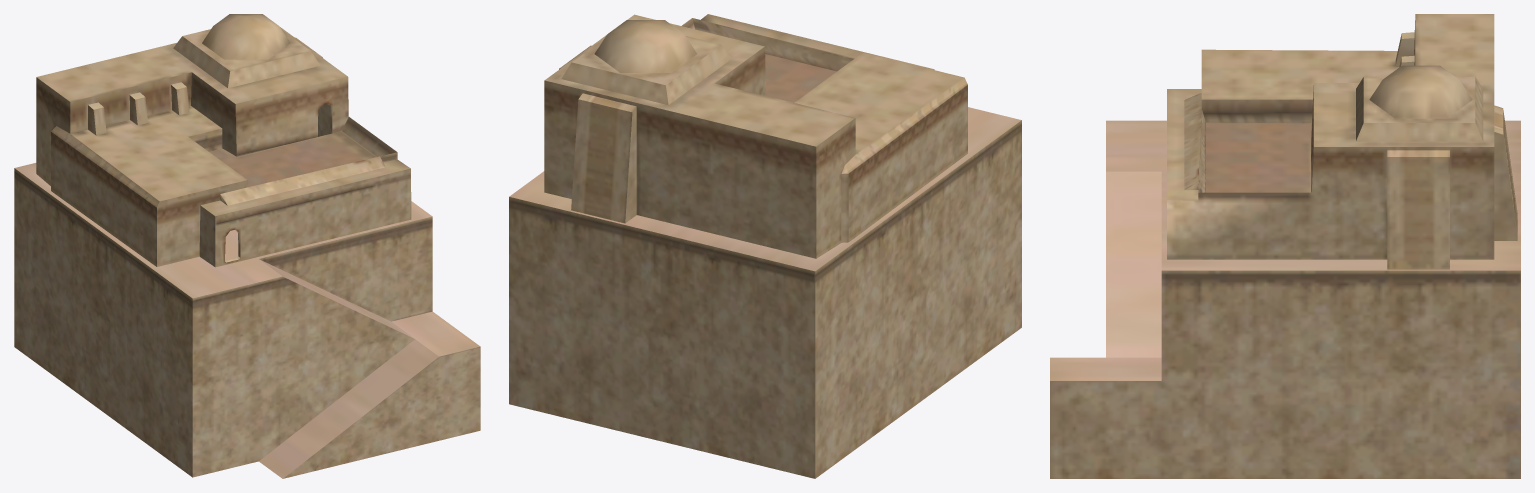
File: ply_tato_house_m_s01_fp1_r0_mesh_l3.fbx
The picture shows the model from 3 angles, left to right: view 1: azimuth 30°, elevation 25°; view 2: azimuth 150°, elevation 25°; view 3: azimuth 270°, elevation 25°; orthographic projection. The views are drawn at different scales.
Parts seen in each view (by area): view 1: mesh_node; view 2: mesh_node; view 3: mesh_node.
Part boxes in pixels (left/top/right/bottom): mesh_node: left=14, top=14, right=480, bottom=478; mesh_node: left=509, top=14, right=1021, bottom=478; mesh_node: left=1050, top=14, right=1520, bottom=478.
Size of the model in its own units: 25.47 by 29.03 by 33.78.
